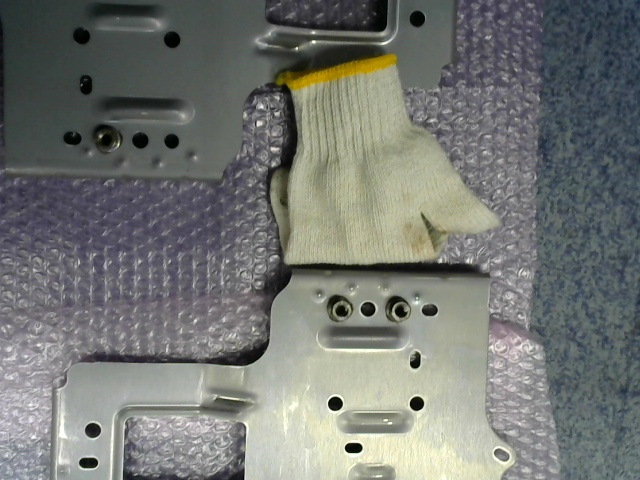dog: (92, 123, 121, 153), (326, 294, 354, 323), (385, 295, 410, 322)
